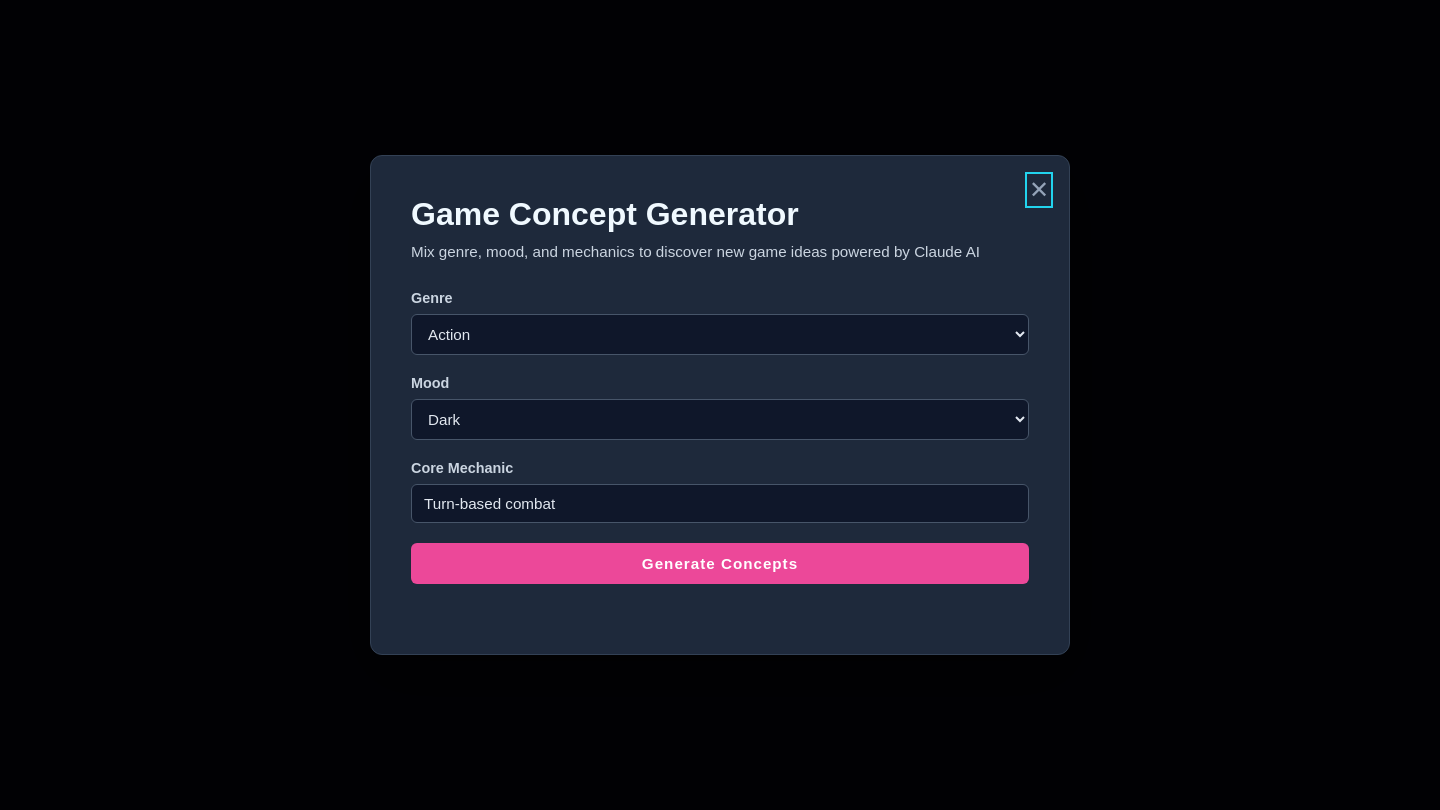
Test: GameConceptModal › renders generated concepts
Click the button "Generate Concepts": (720, 564) [411,543,1029,584]
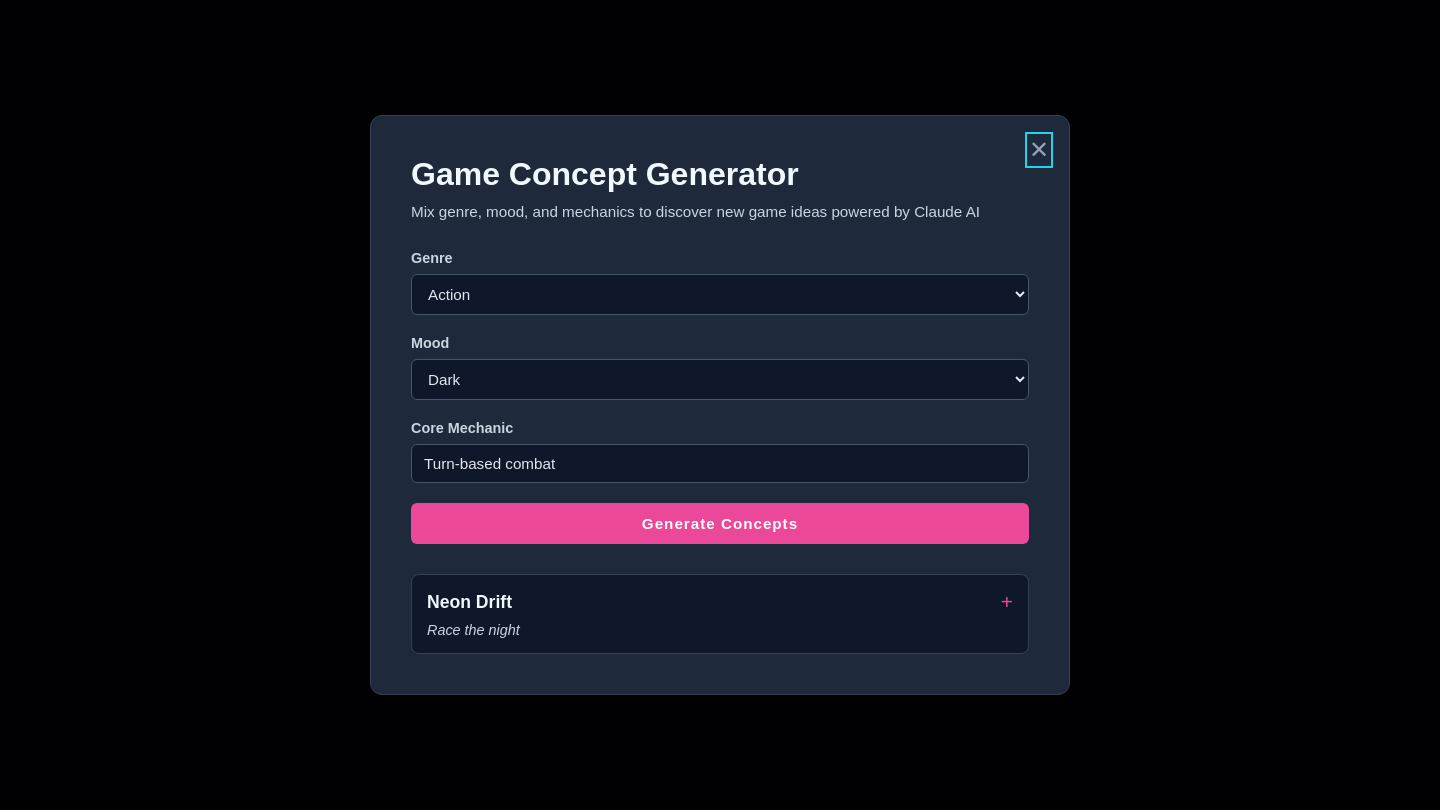
Expected: the heading "Neon Drift" is shown, [427,592,512,612]
